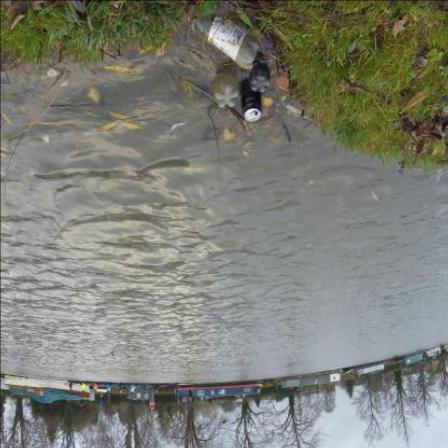Bottle: (195, 14, 262, 70), (212, 73, 240, 109), (249, 62, 271, 93)
Can: (240, 91, 262, 123)
Pop tab: (249, 113, 256, 120)
